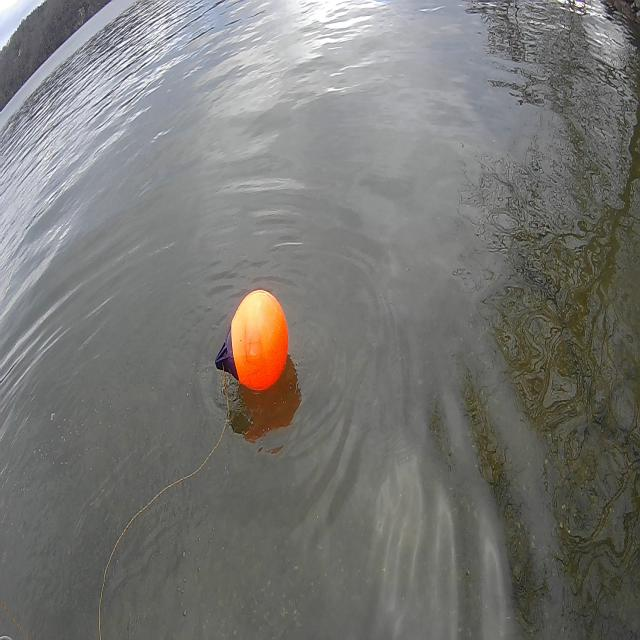Buoy: (214, 284, 290, 412)
